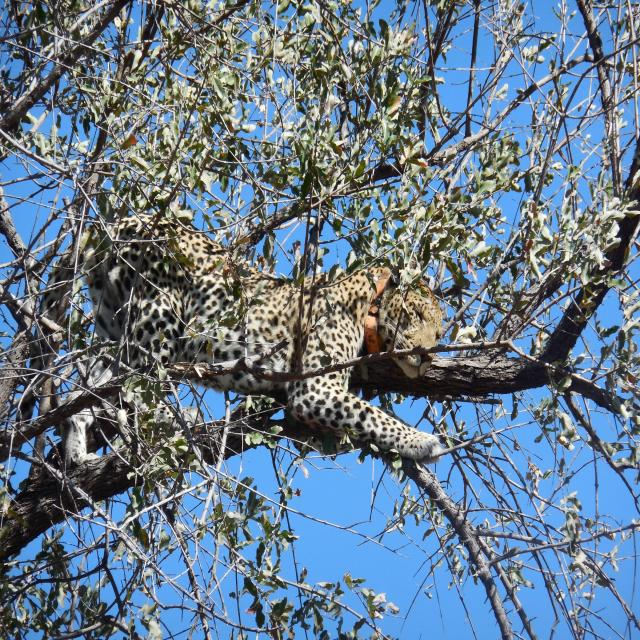Leopard: (0, 207, 437, 489)
